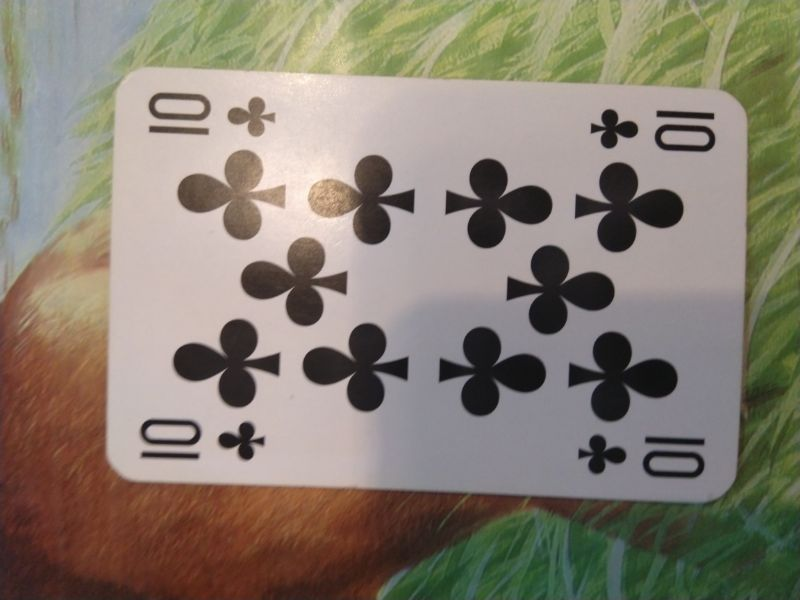Tc: (573, 424, 714, 482), (140, 87, 286, 143), (586, 98, 726, 156), (133, 413, 270, 468)
